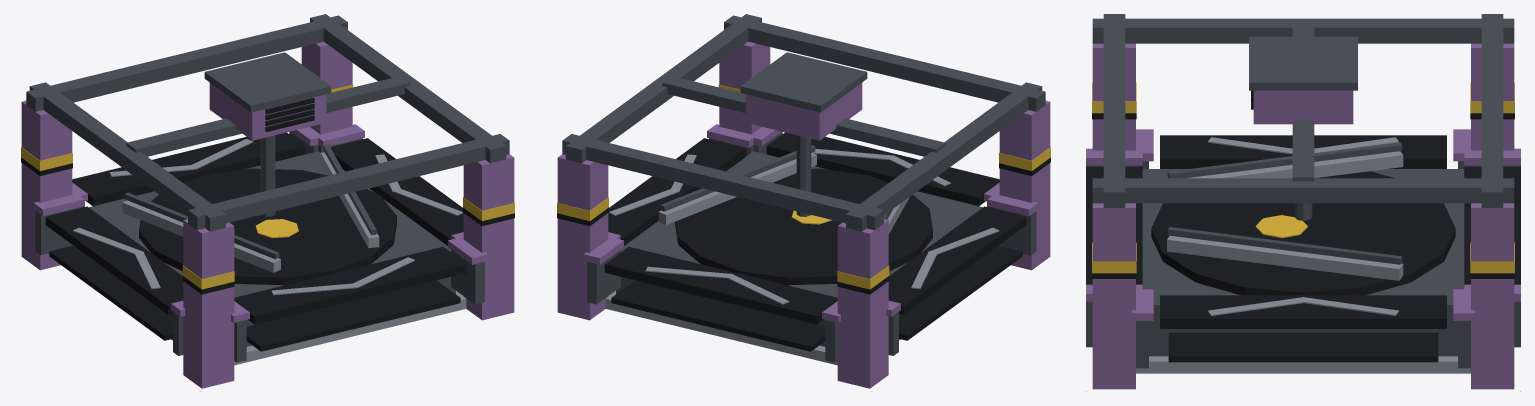
The model's file is groupeur.glb.
3 renders of one model, left to right at view 1: azimuth 30°, elevation 25°; view 2: azimuth 150°, elevation 25°; view 3: azimuth 270°, elevation 25°, orthographic. The views are drawn at different scales.
Parts seen in each view (by area): view 1: pieces_acier_sombre.022, pieces_noir.030, pieces_groupeur.002, plateau_fond.006, pieces_acier.054, bande_acier.048, pieces_jaune.024; view 2: pieces_acier_sombre.022, pieces_noir.030, pieces_groupeur.002, plateau_fond.006, pieces_acier.054, bande_acier.048, pieces_jaune.024; view 3: pieces_acier_sombre.022, pieces_noir.030, pieces_groupeur.002, plateau_fond.006, pieces_acier.054, pieces_jaune.024, bande_acier.048.
Part boxes in pixels (bbox=[...]): pieces_acier_sombre.022: bbox=[26, 14, 509, 362]; pieces_noir.030: bbox=[21, 97, 514, 351]; pieces_groupeur.002: bbox=[21, 41, 514, 388]; plateau_fond.006: bbox=[139, 168, 396, 285]; pieces_acier.054: bbox=[122, 152, 466, 365]; bande_acier.048: bbox=[72, 139, 462, 295]; pieces_jaune.024: bbox=[21, 84, 514, 289]; pieces_acier_sombre.022: bbox=[562, 14, 1045, 362]; pieces_noir.030: bbox=[557, 132, 1050, 351]; pieces_groupeur.002: bbox=[557, 41, 1050, 388]; plateau_fond.006: bbox=[675, 168, 932, 285]; pieces_acier.054: bbox=[605, 152, 909, 365]; bande_acier.048: bbox=[609, 148, 999, 304]; pieces_jaune.024: bbox=[557, 84, 1050, 289]; pieces_acier_sombre.022: bbox=[1086, 14, 1520, 368]; pieces_noir.030: bbox=[1086, 90, 1520, 362]; pieces_groupeur.002: bbox=[1086, 43, 1520, 389]; plateau_fond.006: bbox=[1151, 171, 1455, 295]; pieces_acier.054: bbox=[1136, 151, 1470, 373]; pieces_jaune.024: bbox=[1092, 82, 1514, 273]; bande_acier.048: bbox=[1208, 137, 1398, 315].
Bounding box in the file's own units: 1 × 0.61 × 1.
